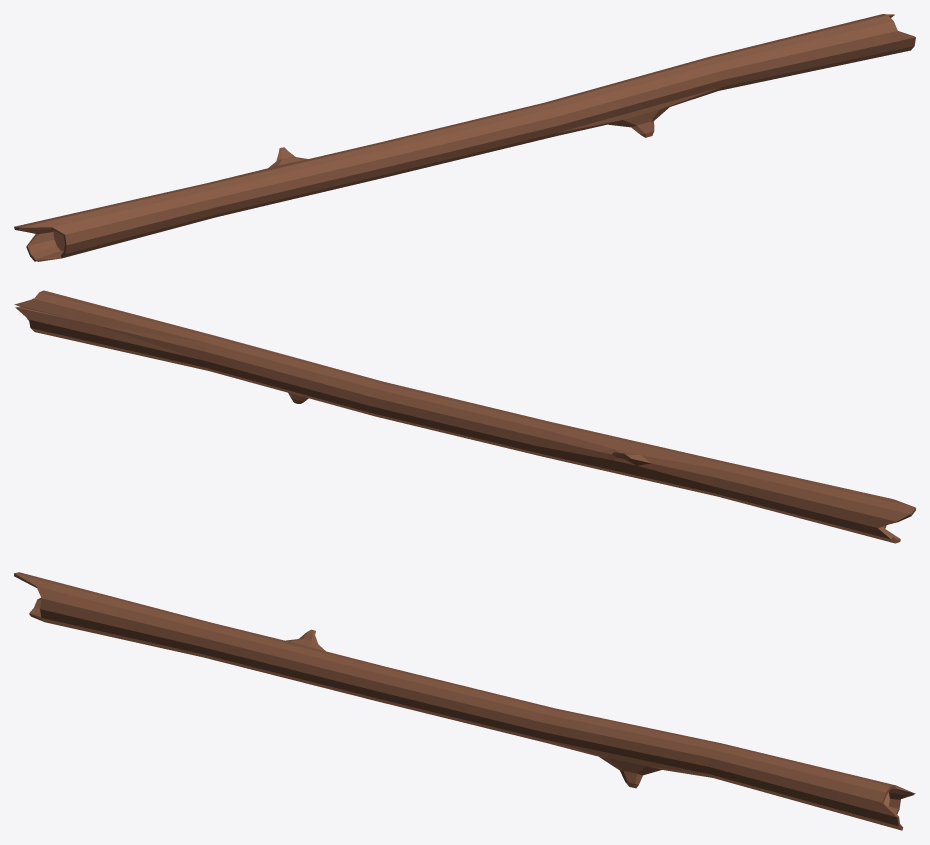
The model's file is mod_bg_RondinPetitMoyen.fbx.
3 views of the same model, one above another, from view 1: azimuth 30°, elevation 25°; view 2: azimuth 150°, elevation 25°; view 3: azimuth 330°, elevation 25° (orthographic).
Visible parts, largest first — view 1: RondinPetitMoyen; view 2: RondinPetitMoyen; view 3: RondinPetitMoyen.
Boxes of the visible parts, <box> form: RondinPetitMoyen: <box>14,14,915,261</box>; RondinPetitMoyen: <box>14,290,915,543</box>; RondinPetitMoyen: <box>14,572,915,830</box>.
Bounding box in the file's own units: 295 × 17.74 × 16.27.
